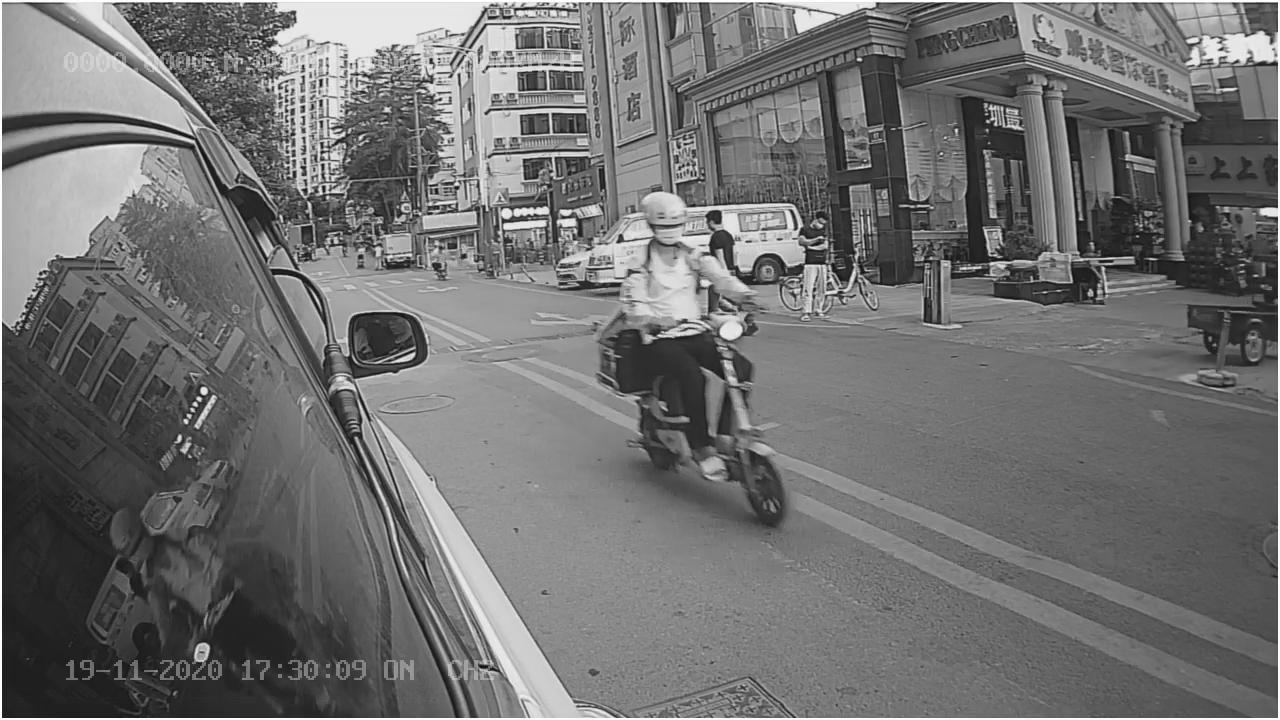person: (610, 191, 737, 312)
